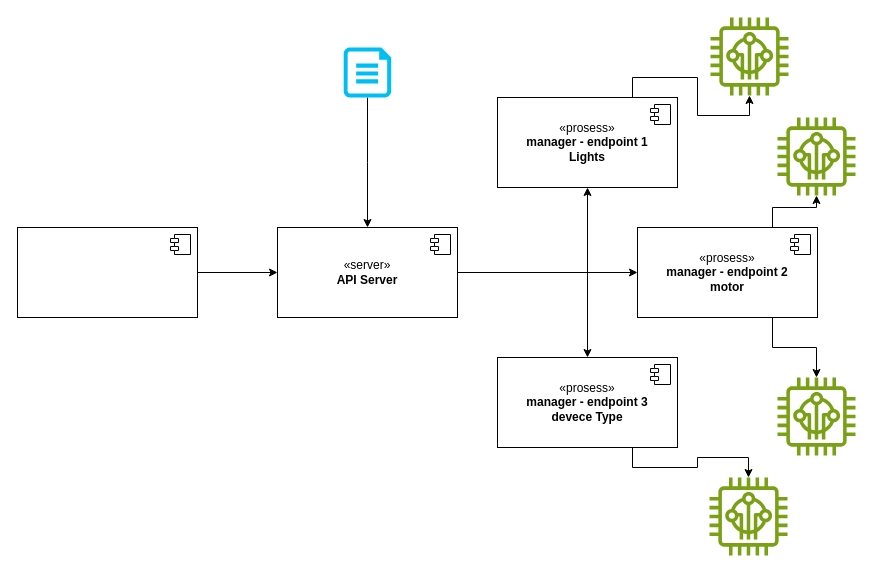
Some shapes in this 873 by 572 pixel diagram are drawn without their labels. The centre of each missing label's shape, as x and y in pixels:
"config - house" goes at (367,72).
"«prosess» front-end web app" goes at (107,272).
